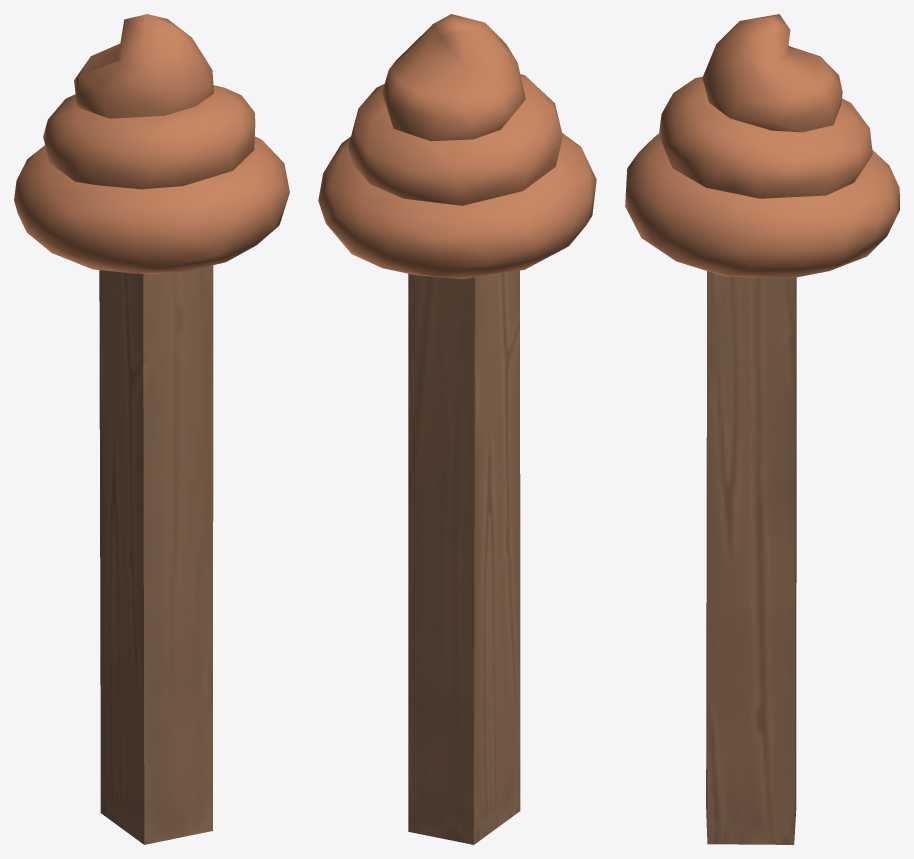
File: MeleeWeaponAgent_ShitStick.fbx
3 views of the same model, side by side, from view 1: azimuth 30°, elevation 25°; view 2: azimuth 150°, elevation 25°; view 3: azimuth 270°, elevation 25° (orthographic).
Visible parts, largest first — view 1: Prfb_WoodBoards_01_7, SM_Shit; view 2: Prfb_WoodBoards_01_7, SM_Shit; view 3: Prfb_WoodBoards_01_7, SM_Shit.
Boxes of the visible parts, box(x1,y1,x2,y2) form: Prfb_WoodBoards_01_7: box(99, 265, 213, 844); SM_Shit: box(14, 14, 289, 274); Prfb_WoodBoards_01_7: box(408, 270, 520, 844); SM_Shit: box(318, 14, 596, 279); Prfb_WoodBoards_01_7: box(706, 271, 796, 844); SM_Shit: box(625, 14, 899, 278).
Bounding box in the file's own units: 0.4037 × 1.3 × 0.4.
